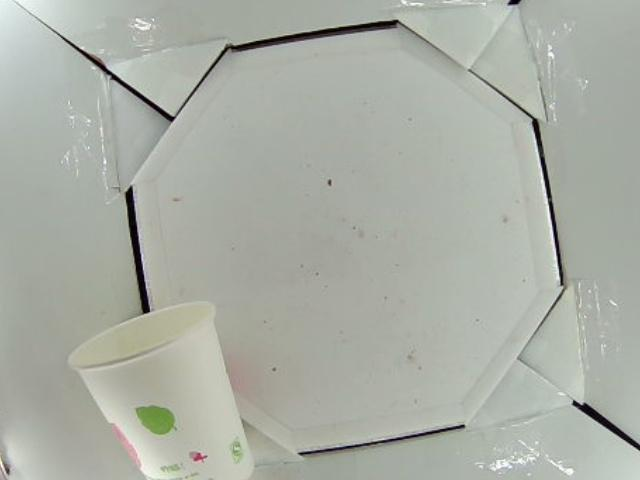Cup: (67, 302, 253, 480)
